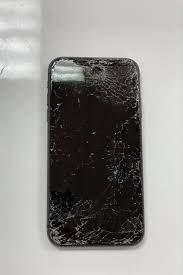Crack: (42, 55, 152, 253)
